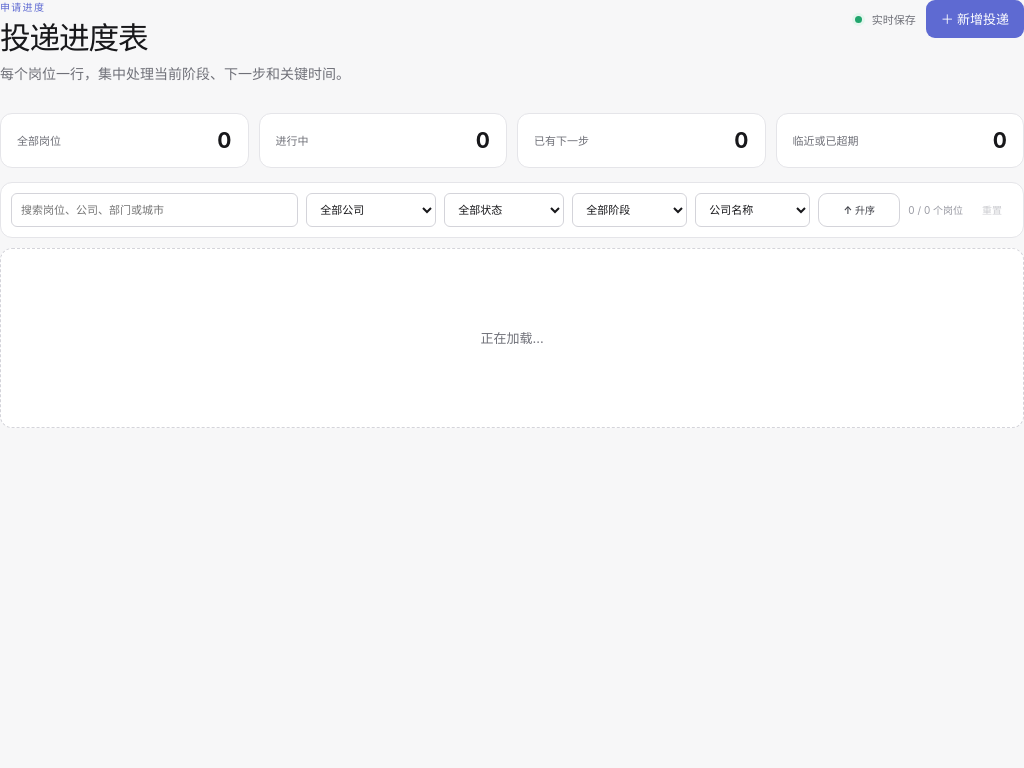
it: 关键页面交互 › 可在进度表内部新建投递并立即渲染
expect the text "全部岗位" is shown: met, box [17,132,61,148]
Click the button "＋ 新增投递".
click(975, 19)  # box [926,0,1023,38]
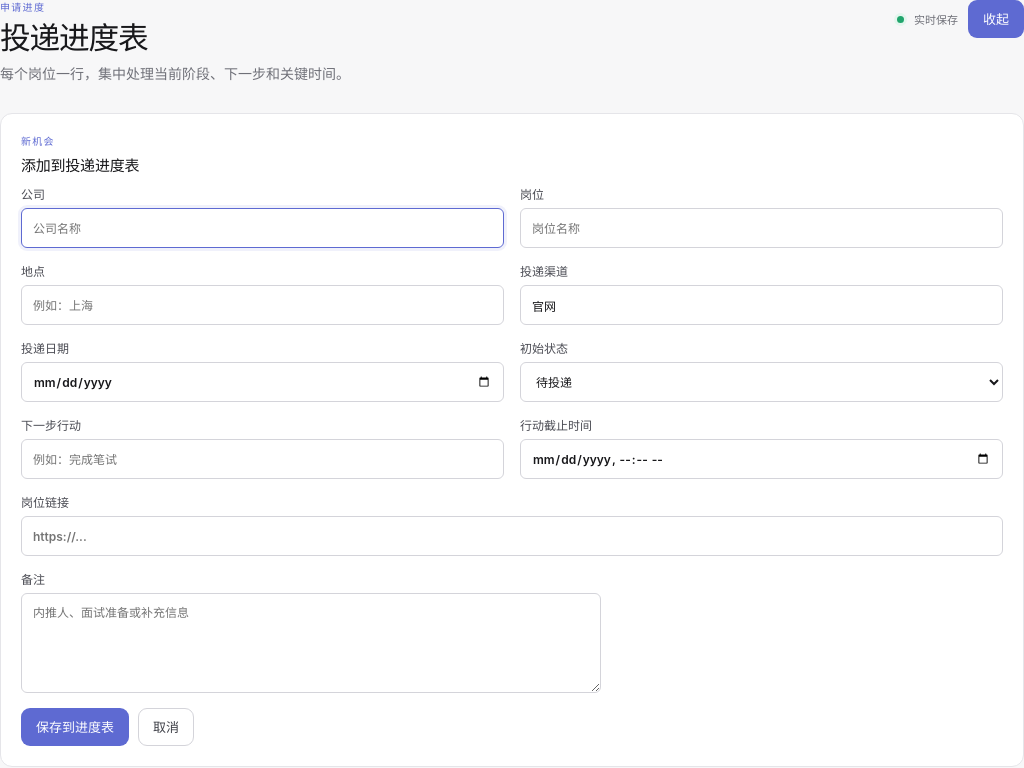
Type "内部创建公司" into the field labelled "公司".
click(262, 228); type("内部创建公司")  # box [21,208,504,248]
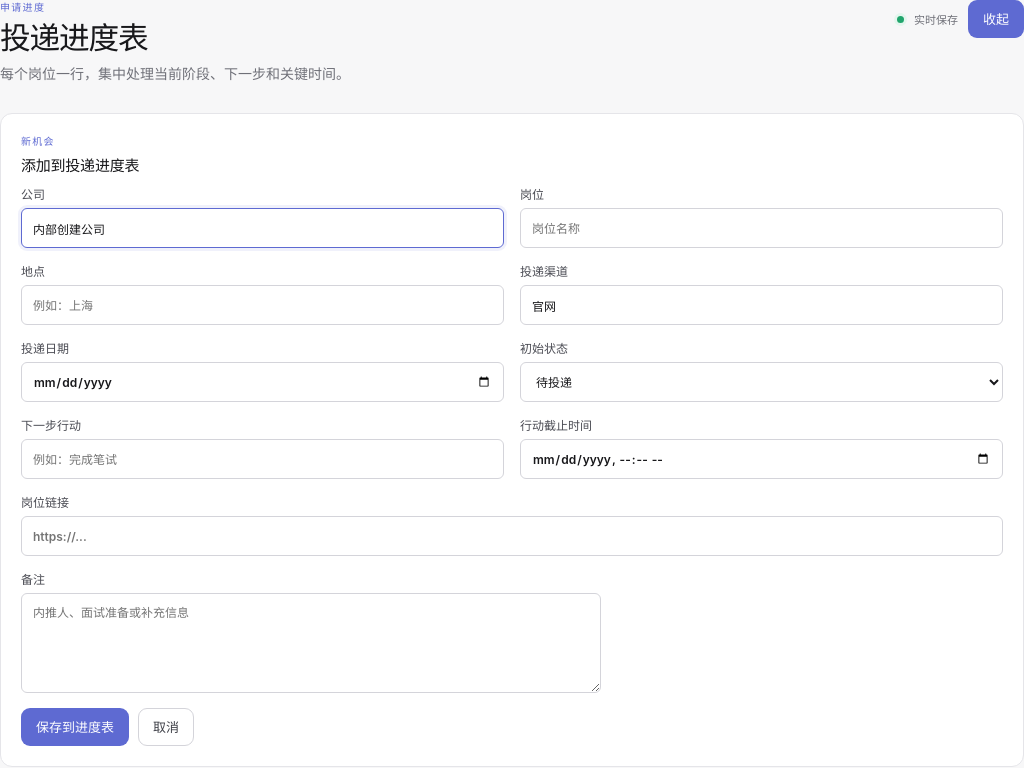
Type "AI 工程师" into the field labelled "岗位".
click(762, 228); type("AI 工程师")  # box [520,208,1003,248]
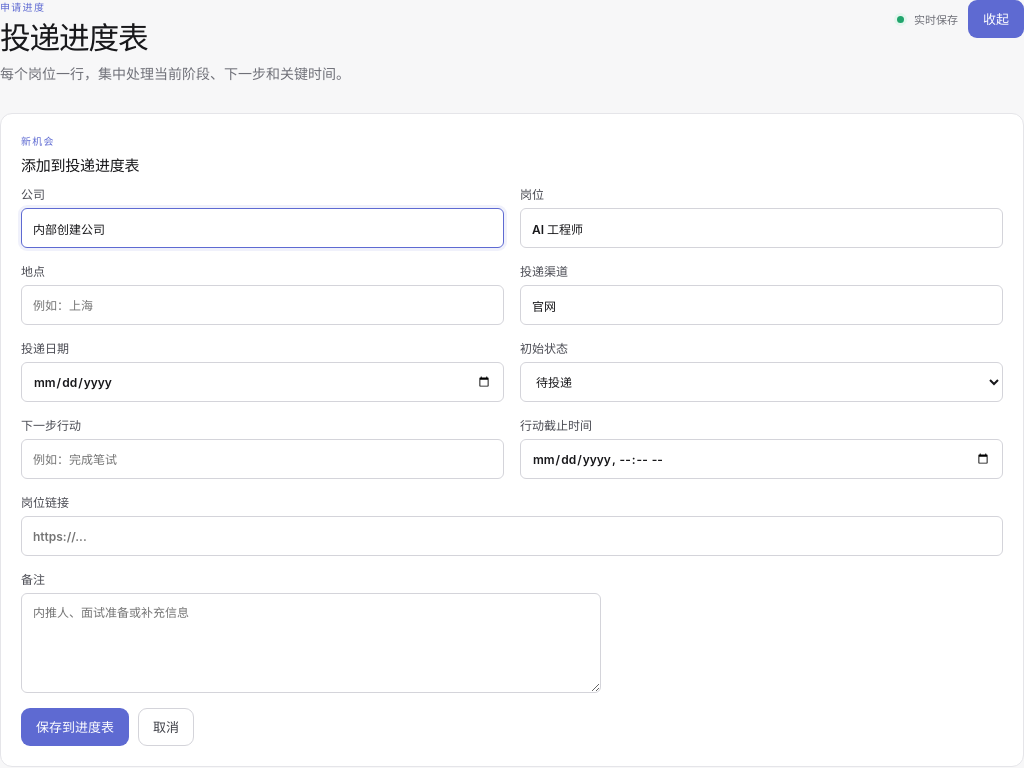
Type "深圳" into the field labelled "地点".
click(262, 305); type("深圳")  # box [21,285,504,325]
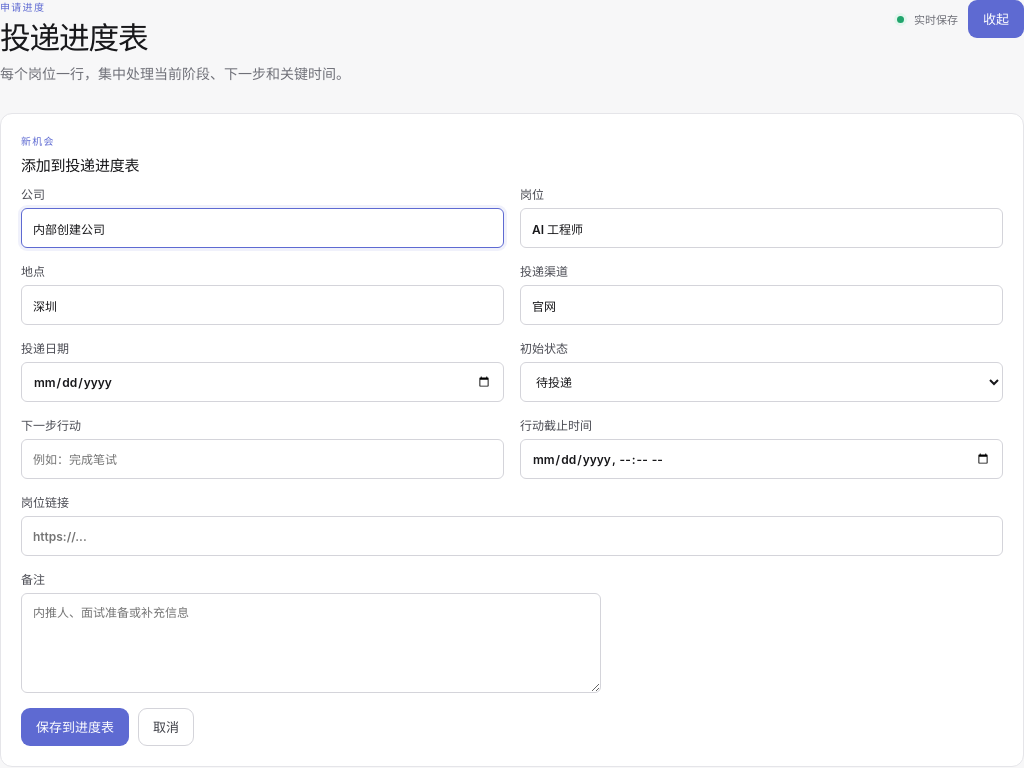
Click the button "保存到进度表".
click(75, 727)  # box [21,708,129,746]
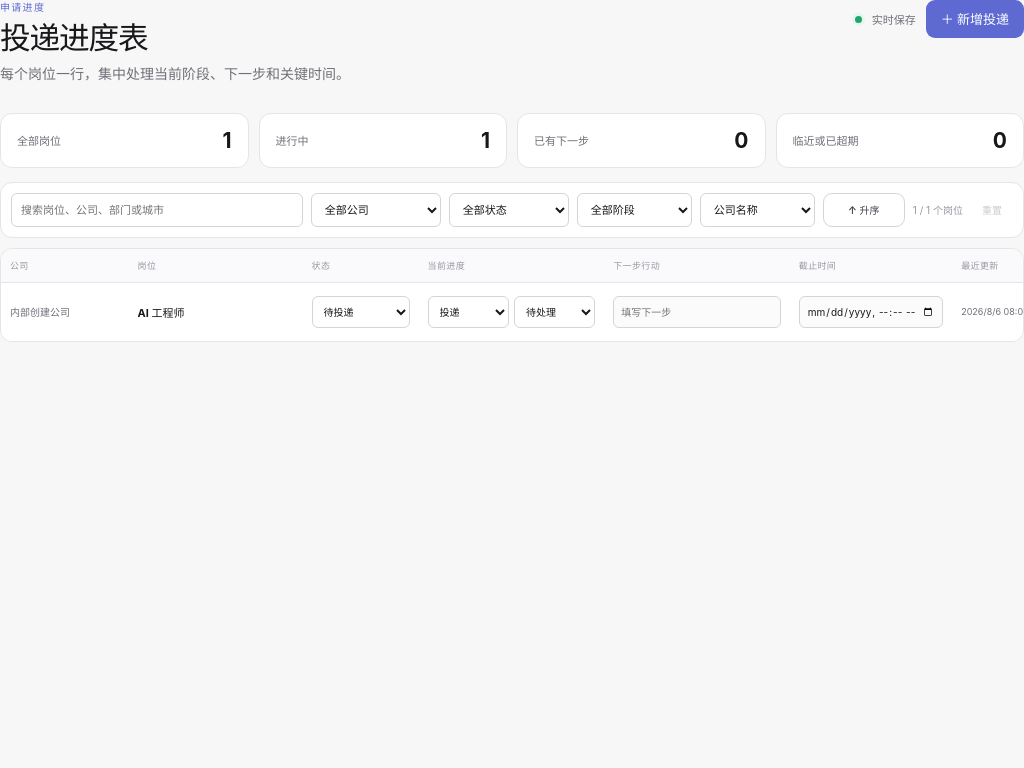
expect the text "AI 工程师" is shown: met, box [138,306,184,320]
expect the cell "内部创建公司" is shown: met, box [1,282,129,341]
